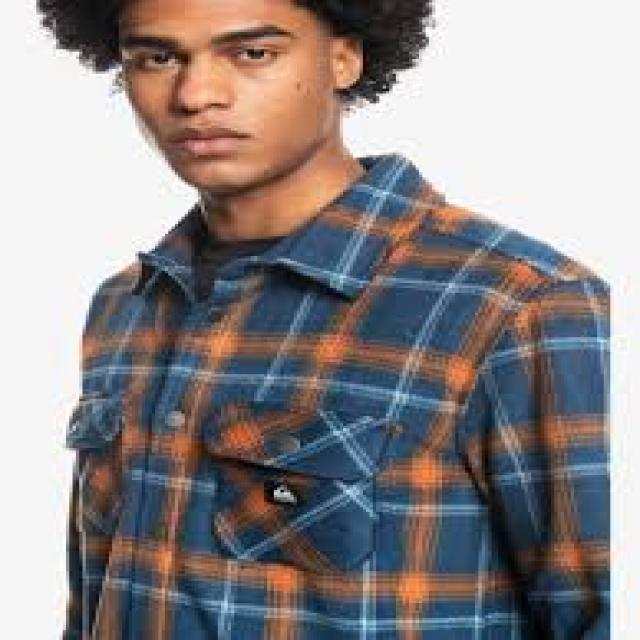plaid: (42, 188, 617, 640)
